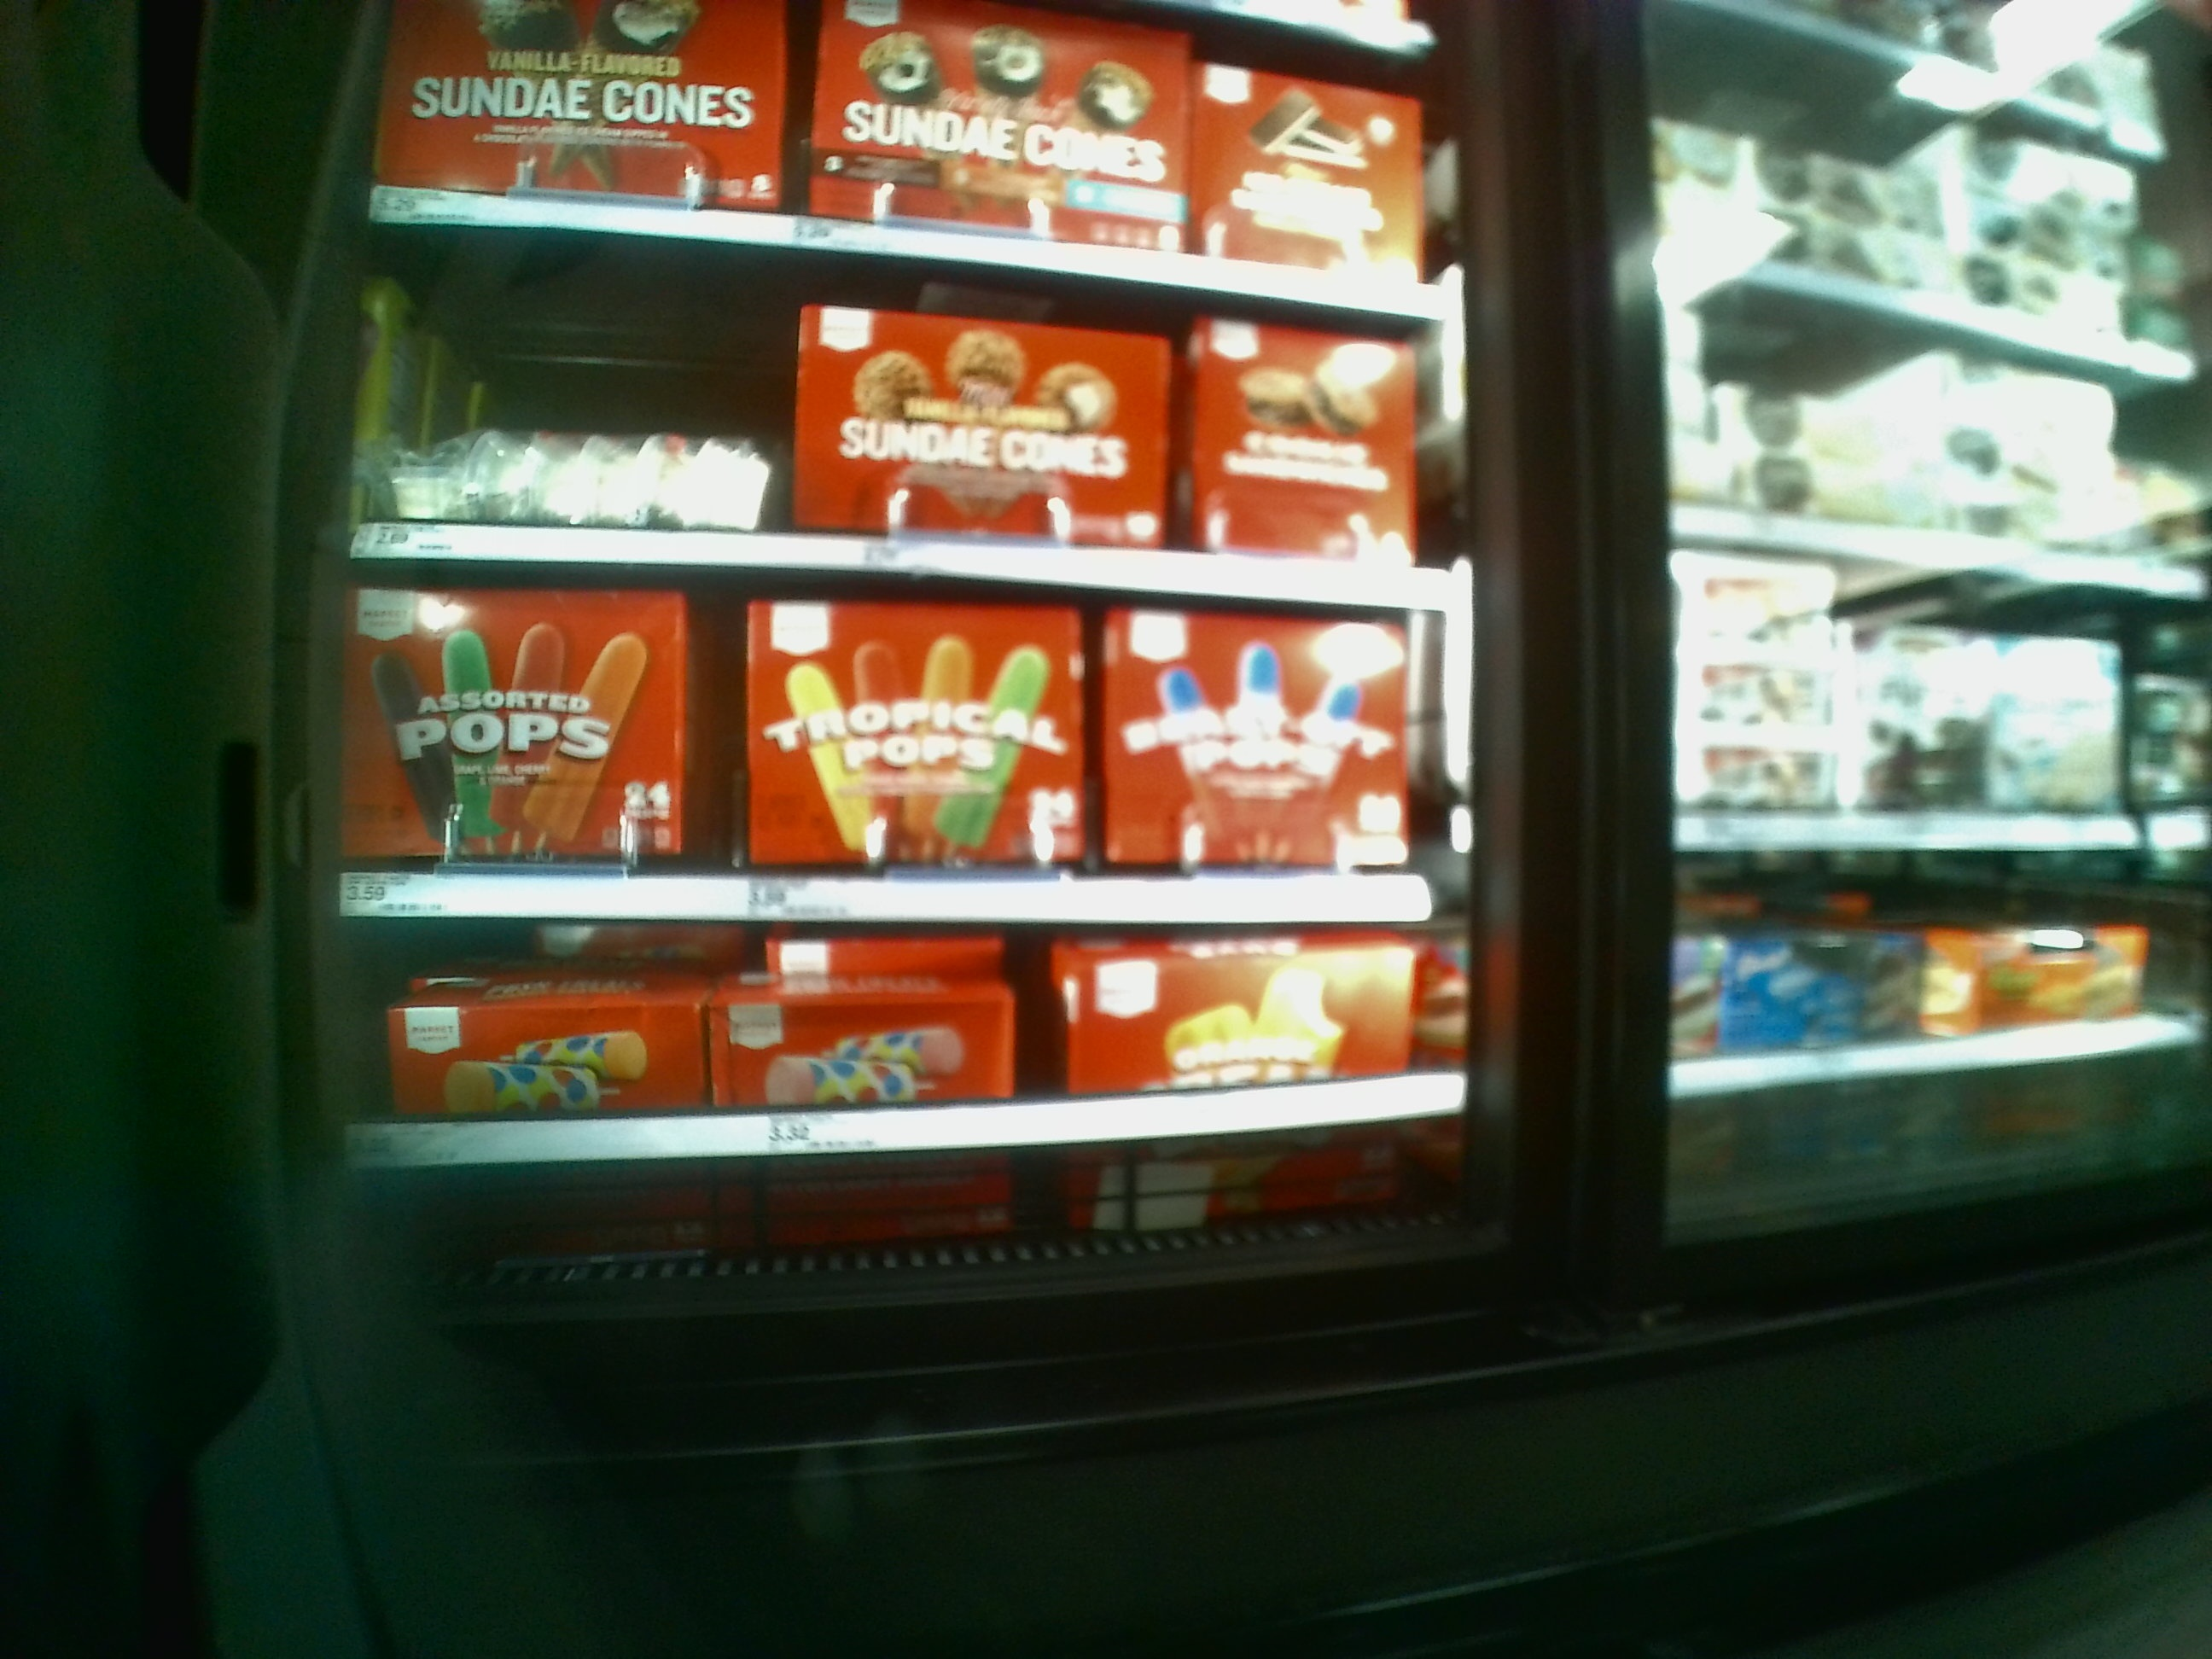shelf: (340, 575, 1447, 924), (355, 915, 1446, 1227), (357, 295, 1446, 596)
